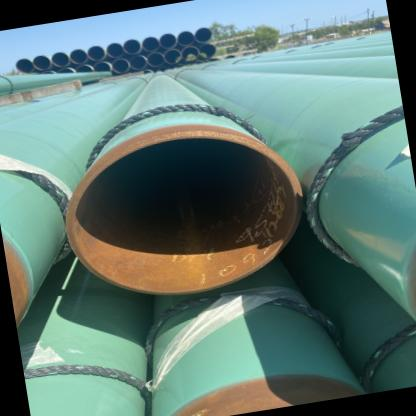clean: (127, 107, 236, 166)
